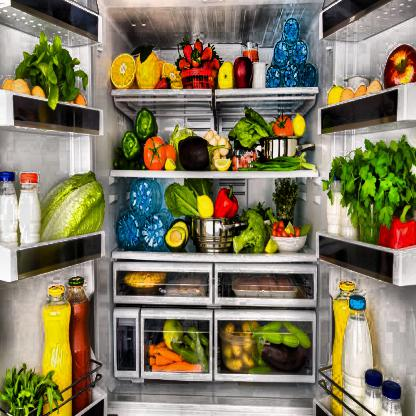apple: (385, 46, 415, 83)
broccoli: (234, 210, 265, 252)
eggplant: (258, 344, 309, 372), (179, 137, 216, 169)
eggs: (3, 76, 31, 96), (367, 81, 384, 92), (341, 88, 354, 99), (356, 85, 367, 95)
green_bell_pepper: (136, 108, 158, 137), (122, 132, 142, 160)
lemon: (197, 196, 214, 218), (293, 113, 306, 135), (328, 84, 342, 104), (265, 237, 278, 254), (214, 158, 232, 170), (284, 221, 295, 236), (165, 158, 176, 170)
lettuce: (43, 173, 104, 238)
milk: (345, 297, 372, 415), (19, 173, 40, 246), (1, 170, 19, 252)
orange: (134, 47, 160, 89), (112, 54, 136, 86), (163, 62, 183, 88)
parsley: (343, 143, 414, 212)
potato: (231, 342, 244, 359), (242, 321, 258, 333), (242, 352, 254, 367), (224, 324, 235, 338)
red_bell_pepper: (381, 212, 416, 247), (214, 188, 238, 216)
spring_onion: (256, 156, 314, 170)
strawberries: (182, 40, 193, 62), (200, 46, 216, 60), (156, 77, 170, 88), (192, 49, 201, 66), (194, 39, 203, 55), (177, 57, 190, 68), (212, 57, 222, 67)
tomato: (144, 137, 166, 169), (274, 116, 294, 136), (165, 142, 177, 160), (232, 155, 239, 165), (241, 155, 246, 163)
